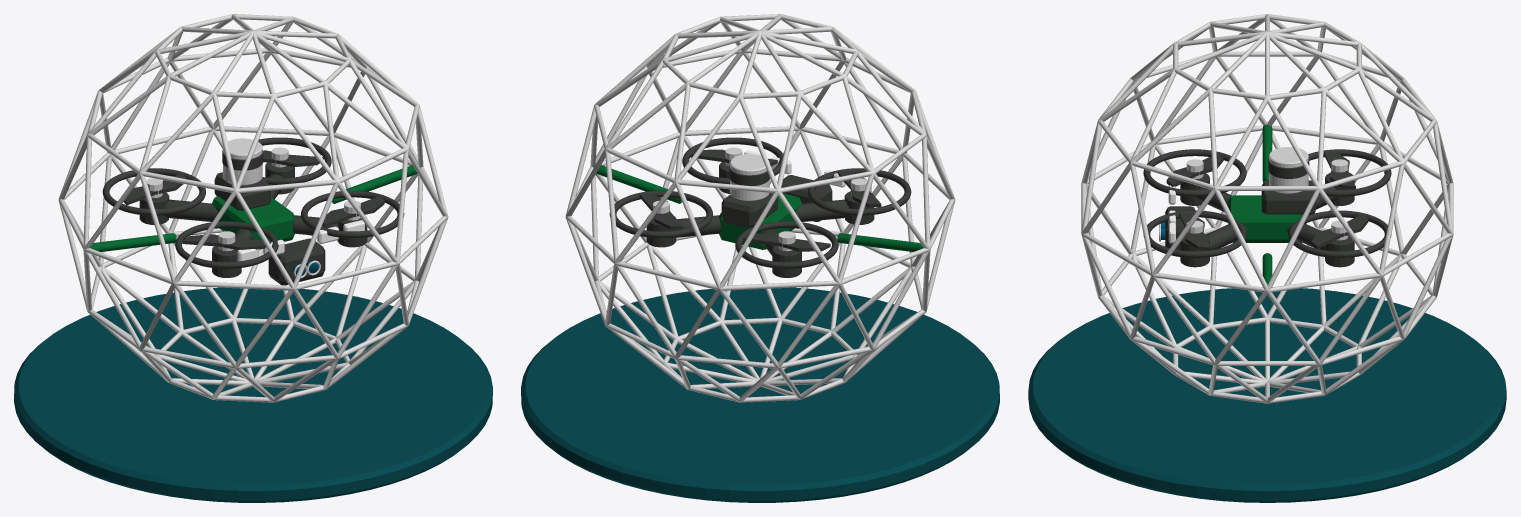
Rendered from flyability-elios-3.glb.
3 renders of one model, left to right at view 1: azimuth 30°, elevation 25°; view 2: azimuth 150°, elevation 25°; view 3: azimuth 270°, elevation 25°, orthographic.
Visible parts, largest first — view 1: pedestal, body; view 2: pedestal, body; view 3: pedestal, body.
Boxes of the visible parts, x1,y1,x2,y2 form: pedestal: (14, 287, 492, 502); body: (58, 14, 448, 402); pedestal: (521, 287, 999, 502); body: (565, 14, 955, 402); pedestal: (1028, 288, 1506, 502); body: (1081, 14, 1453, 403).
Size of the model in its own units: 4.4 by 3.78 by 4.4.
